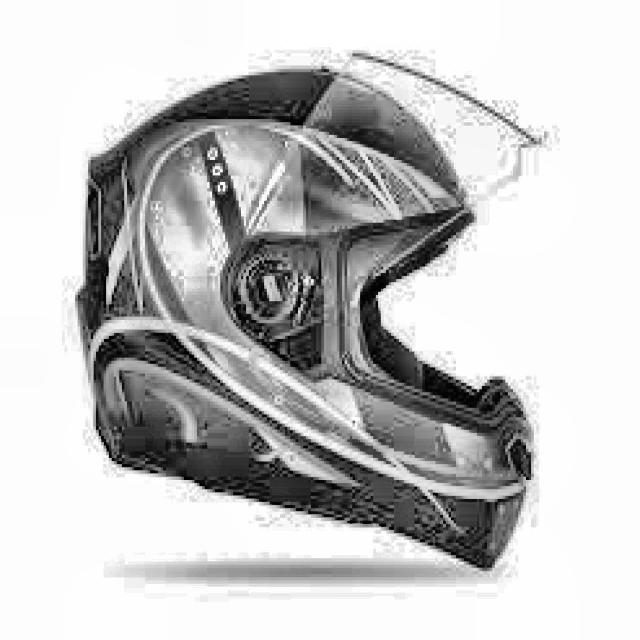Helmet: (73, 54, 587, 569)
